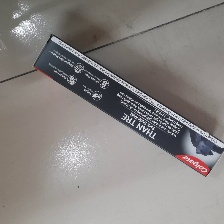Colgate Than: (30, 33, 224, 177)
